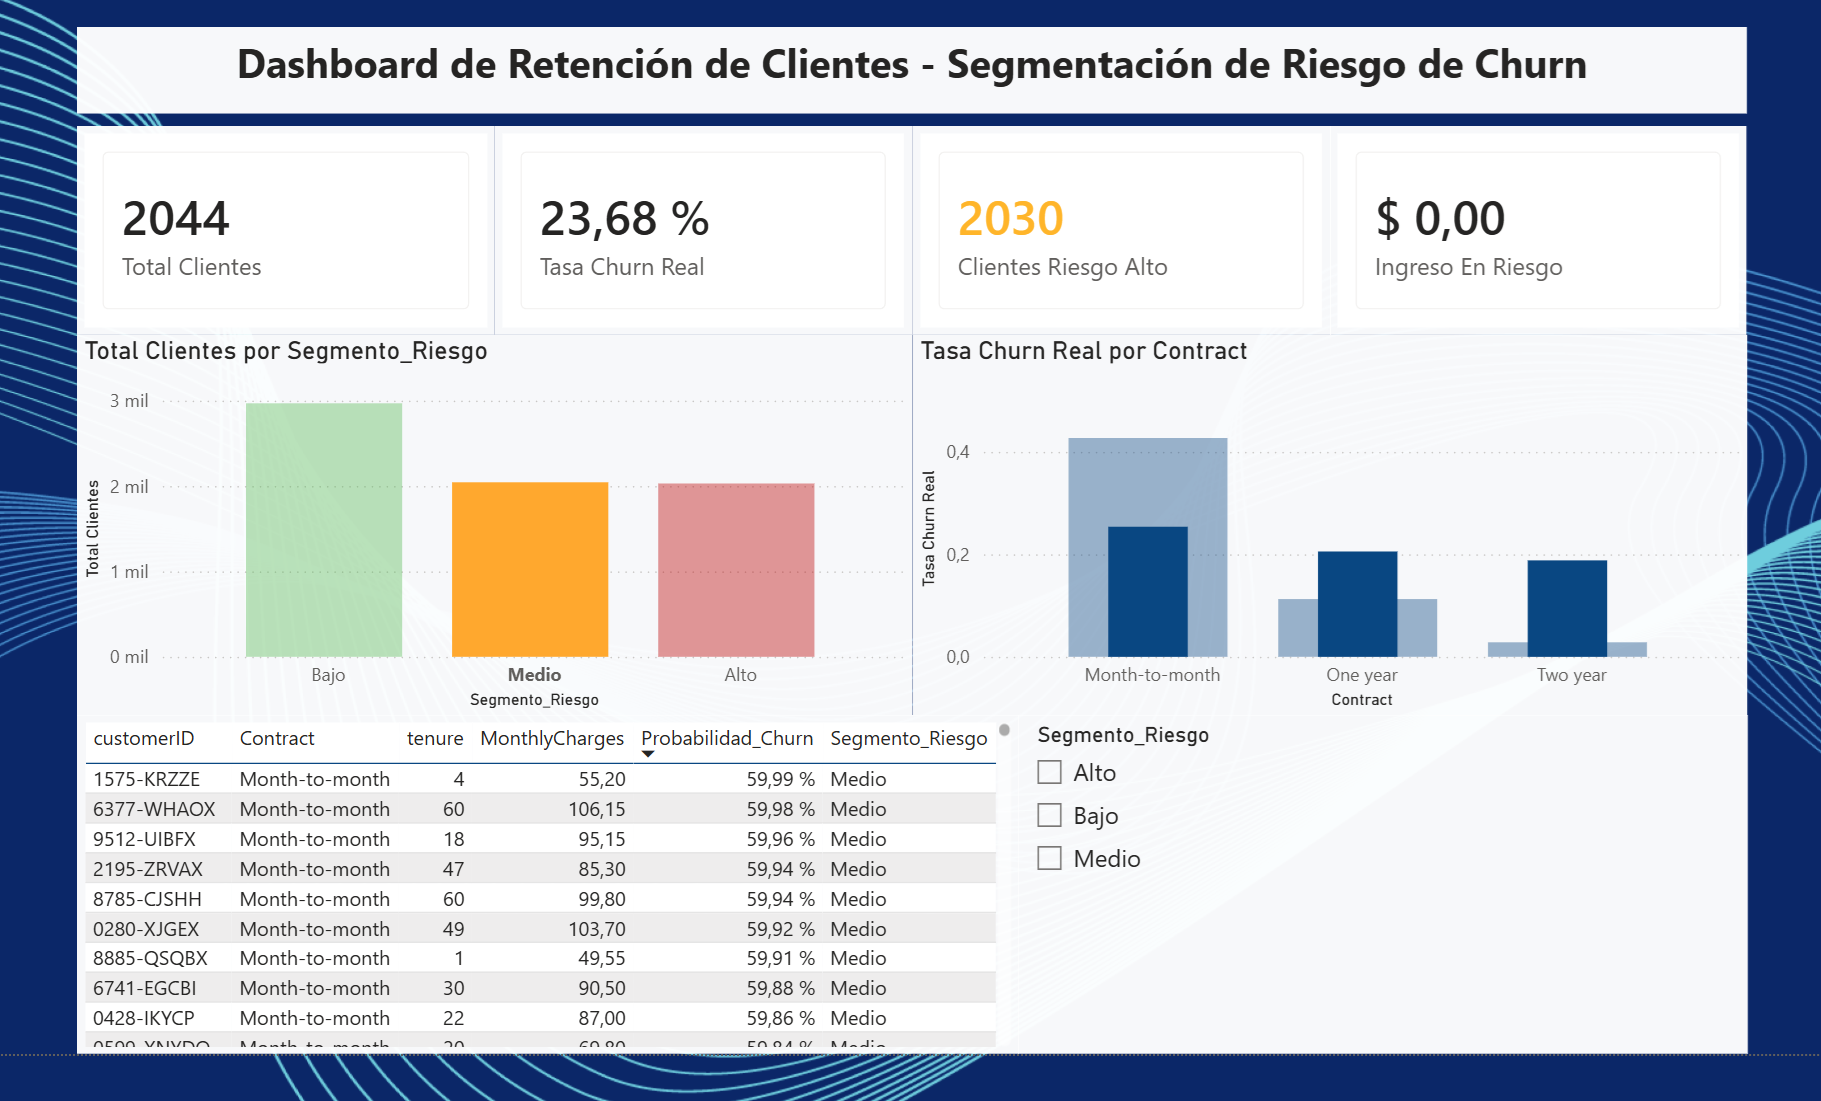

This screenshot's page, from the dashboard's own definition file:
{"tool":"powerbi","page":{"name":"Página 1","canvas":[1280,720],"ordinal":0},"visuals":[{"type":"cardVisual","fields":{"Data":["churn_dashboard_dataset.Total Clientes"]},"box":[92.5,97.8,280.5,140.2],"z":0},{"type":"cardVisual","fields":{"Data":["churn_dashboard_dataset.Tasa Churn Real"]},"box":[372.6,97.8,279.7,140.2],"z":1000},{"type":"cardVisual","fields":{"Data":["churn_dashboard_dataset.Clientes Riesgo Alto"]},"box":[652.5,97.9,279.7,140.2],"z":2000},{"type":"cardVisual","fields":{"Data":["churn_dashboard_dataset.Ingreso En Riesgo"]},"box":[932.5,97.9,279.2,140.4],"z":3000},{"type":"clusteredColumnChart","fields":{"Category":["churn_dashboard_dataset.Segmento_Riesgo"],"Y":["churn_dashboard_dataset.Total Clientes"]},"box":[92.5,237.9,560.3,254.7],"z":4000},{"type":"clusteredColumnChart","fields":{"Y":["churn_dashboard_dataset.Tasa Churn Real"],"Category":["churn_dashboard_dataset.Contract"]},"box":[652.7,237.9,558.9,254.7],"z":5000},{"type":"tableEx","fields":{"Values":["churn_dashboard_dataset.customerID","churn_dashboard_dataset.Contract","churn_dashboard_dataset.tenure","churn_dashboard_dataset.MonthlyCharges","churn_dashboard_dataset.Probabilidad_Churn","churn_dashboard_dataset.Segmento_Riesgo"]},"box":[92.5,492.6,630.6,227.2],"z":6000},{"type":"slicer","fields":{"Values":["churn_dashboard_dataset.Segmento_Riesgo"]},"box":[723.1,492.6,488.5,227.2],"z":7000},{"type":"textbox","box":[92.5,31.5,1119.2,58.3],"z":7001}]}

Visuals, with their boxes on the page's 1280x720 design canvas (x1, y1, x2, y2). These are canvas units, not pixel positions in the 1821x1101 screenshot, which may show the page scaled, cropped or inside an application window:
cardVisual - churn_dashboard_dataset.Total Clientes: pyautogui.locateOnScreen(92, 98, 373, 238)
cardVisual - churn_dashboard_dataset.Tasa Churn Real: pyautogui.locateOnScreen(373, 98, 652, 238)
cardVisual - churn_dashboard_dataset.Clientes Riesgo Alto: pyautogui.locateOnScreen(652, 98, 932, 238)
cardVisual - churn_dashboard_dataset.Ingreso En Riesgo: pyautogui.locateOnScreen(932, 98, 1212, 238)
clusteredColumnChart - churn_dashboard_dataset.Segmento_Riesgo x churn_dashboard_dataset.Total Clientes: pyautogui.locateOnScreen(92, 238, 653, 493)
clusteredColumnChart - churn_dashboard_dataset.Tasa Churn Real x churn_dashboard_dataset.Contract: pyautogui.locateOnScreen(653, 238, 1212, 493)
tableEx - churn_dashboard_dataset.customerID x churn_dashboard_dataset.Contract: pyautogui.locateOnScreen(92, 493, 723, 720)
slicer - churn_dashboard_dataset.Segmento_Riesgo: pyautogui.locateOnScreen(723, 493, 1212, 720)
textbox: pyautogui.locateOnScreen(92, 32, 1212, 90)
